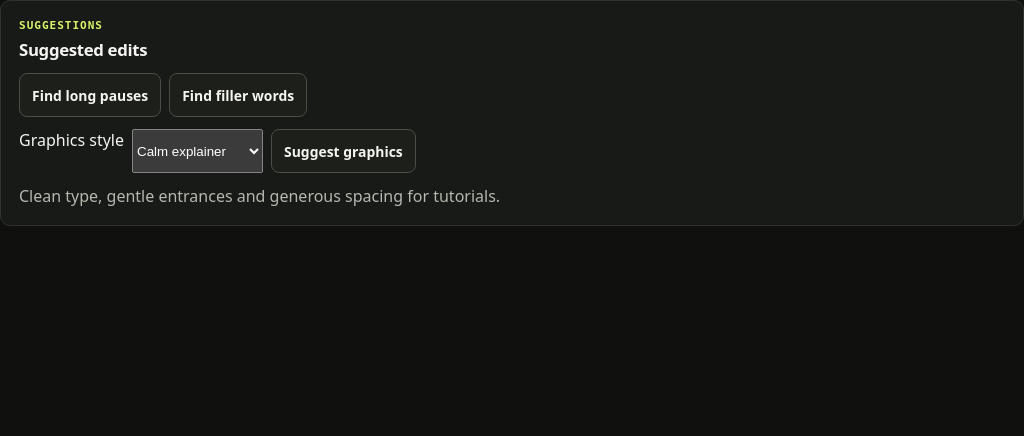
Scenario: ProposalsPanel graphics › snaps recipe graphics onto a nearby music beat
The image size is (1024, 436).
Select "Retro" in the dropdown labelled "Graphics style" at coordinates (198, 151), box [132,129,263,173]
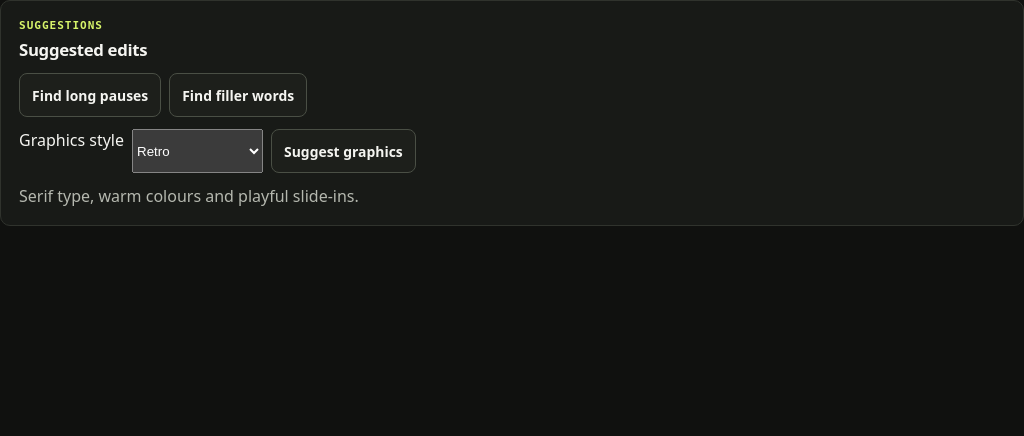
Click the button "Suggest graphics" at coordinates (343, 151), box [271,129,416,173]
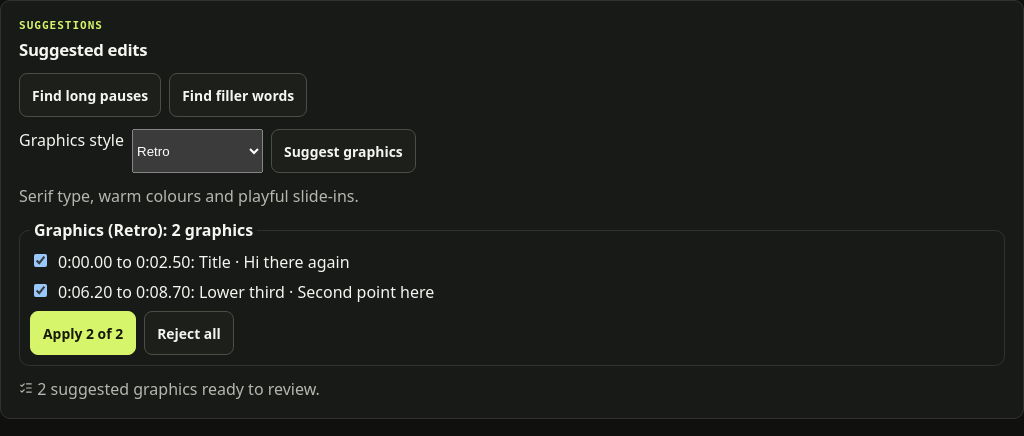
expect the element "Retro" is shown: met, box [19,219,1005,366]
